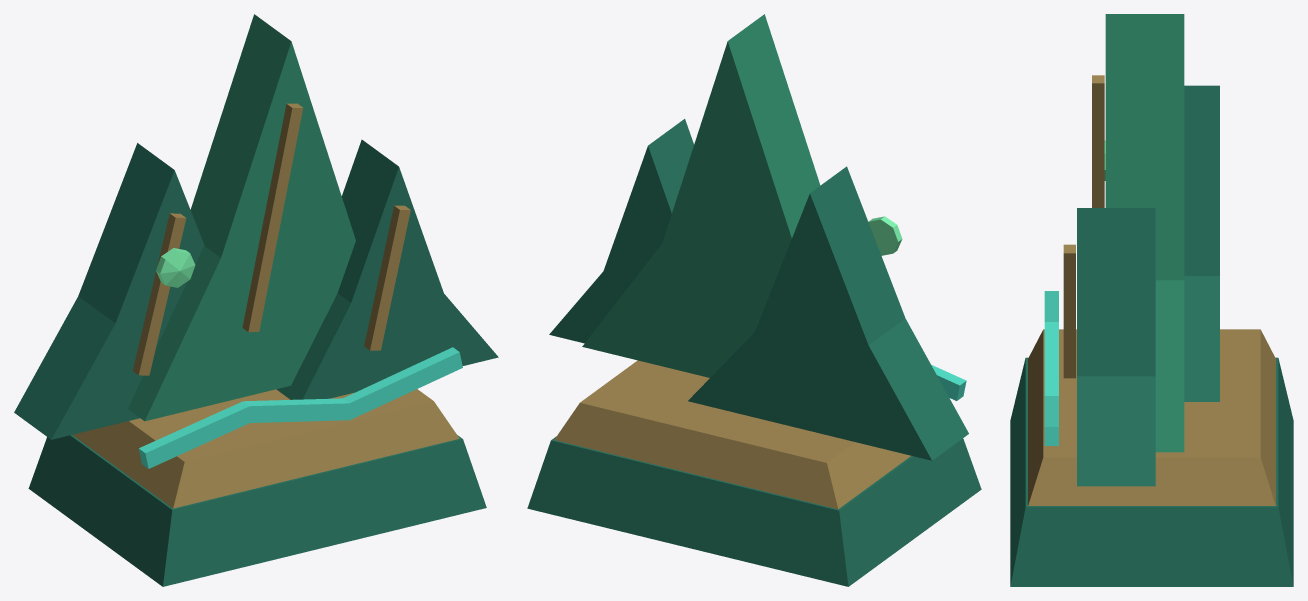
Rendered from green.obj.
3 views of the same model, side by side, from view 1: azimuth 30°, elevation 25°; view 2: azimuth 150°, elevation 25°; view 3: azimuth 270°, elevation 25° (orthographic). The views are drawn at different scales.
Visible parts, largest first — view 1: mountain_base_lower, mountain_peak_1, mountain_base_upper, mountain_peak_2, mountain_peak_0_edge, mountain_peak_1_edge, mountain_peak_0, mountain_peak_2_edge, mountain_water, mountain_ridge_1, mountain_water_edge, mountain_ridge_1_edge (+5 smaller); view 2: mountain_base_lower, mountain_peak_1, mountain_peak_0, mountain_base_upper, mountain_peak_0_edge, mountain_peak_1_edge, mountain_peak_2, mountain_peak_2_edge, mountain_moon; view 3: mountain_base_lower, mountain_peak_1_edge, mountain_base_upper, mountain_peak_2_edge, mountain_peak_0_edge, mountain_water_edge, mountain_ridge_2_edge, mountain_ridge_1_edge.
Part boxes in pixels (x1,y1,x2,y2): mountain_base_lower: (28,435,486,586); mountain_peak_1: (145,41,355,421); mountain_base_upper: (72,389,459,508); mountain_peak_2: (302,167,498,399); mountain_peak_0_edge: (14,143,174,439); mountain_peak_1_edge: (128,14,291,420); mountain_peak_0: (51,170,204,439); mountain_peak_2_edge: (276,139,398,399); mountain_water: (145,352,462,468); mountain_ridge_1: (248,108,303,332); mountain_water_edge: (138,347,459,468); mountain_ridge_1_edge: (242,103,302,331); mountain_base_lower: (527,436,981,586); mountain_peak_1: (582,41,791,377); mountain_peak_0: (688,194,931,460); mountain_base_upper: (554,360,910,509); mountain_peak_0_edge: (810,166,968,460); mountain_peak_1_edge: (728,14,820,237); mountain_peak_2: (549,146,671,343); mountain_peak_2_edge: (648,119,693,213); mountain_moon: (868,216,902,255); mountain_base_lower: (1010,357,1293,586); mountain_peak_1_edge: (1105,14,1184,452); mountain_base_upper: (1028,329,1275,505); mountain_peak_2_edge: (1077,208,1155,486); mountain_peak_0_edge: (1184,85,1219,401); mountain_water_edge: (1044,291,1058,445); mountain_ridge_2_edge: (1063,244,1075,378); mountain_ridge_1_edge: (1092,75,1104,207).
Size of the model in its own units: 1.42 by 1.53 by 0.792.
